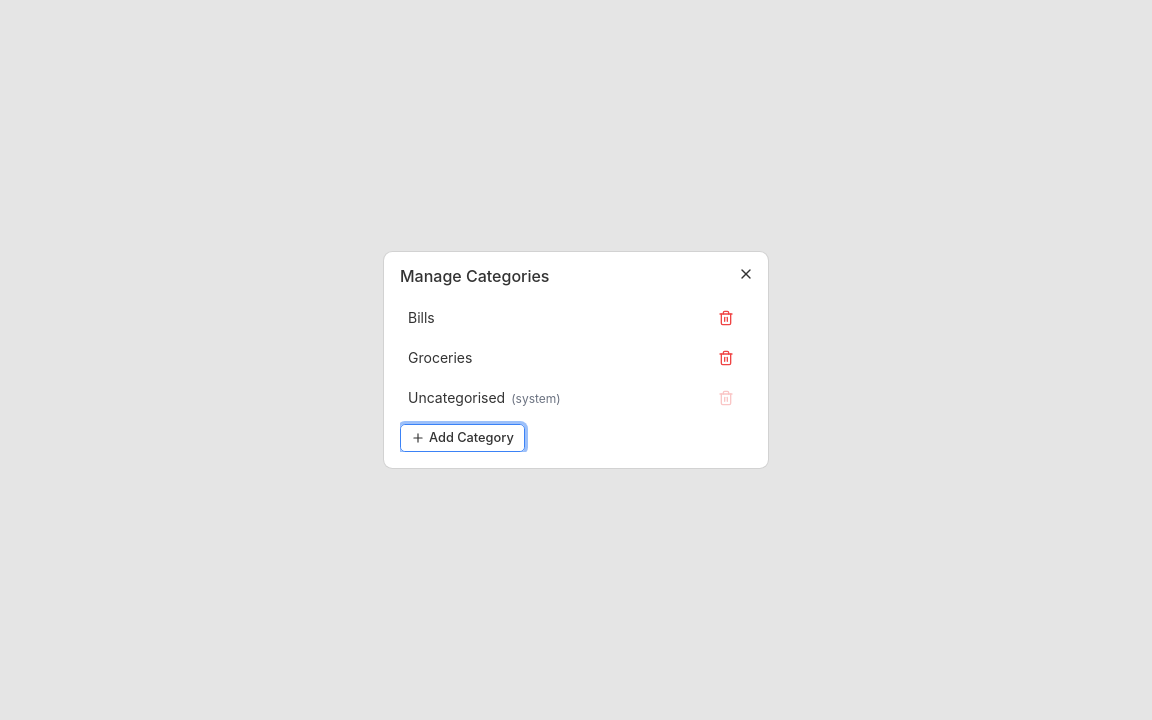
Test: CategoryManagementDialog — delete unused category › does not delete when cancel is clicked
Click the button with test id "delete-btn-1" at coordinates (726, 318), box [712, 304, 740, 332]
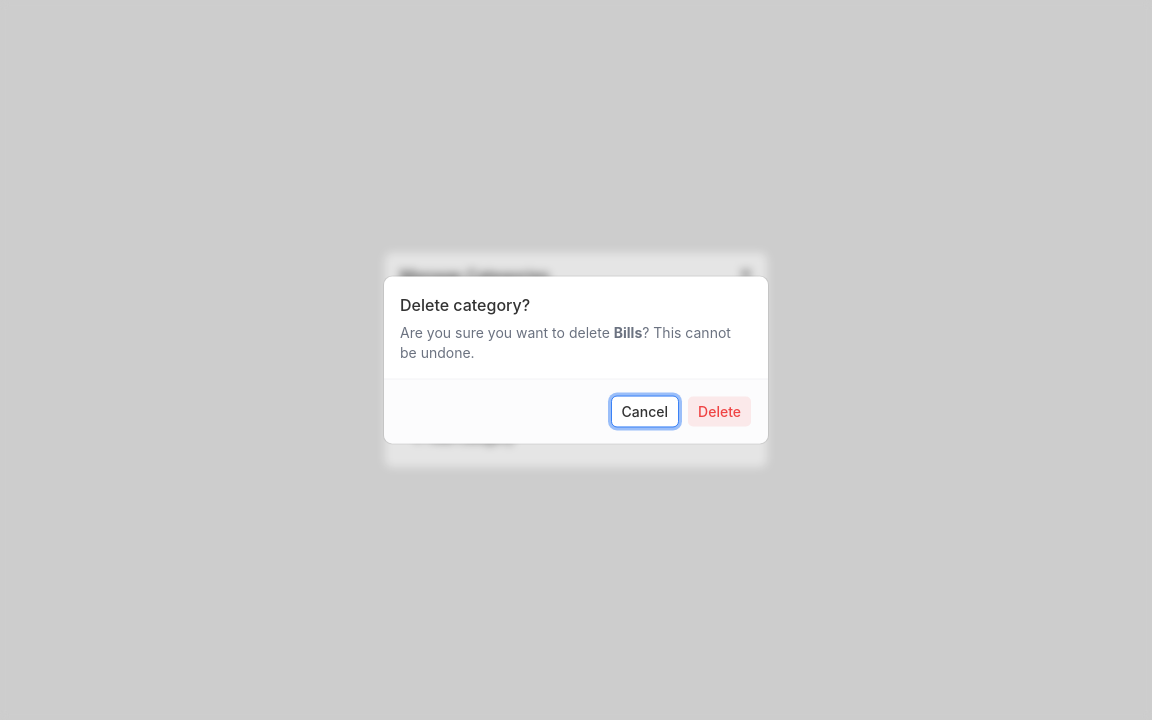
expect the button with test id "delete-cancel" is shown: met
Click the button with test id "delete-cancel" at coordinates (645, 412), box [611, 396, 679, 428]
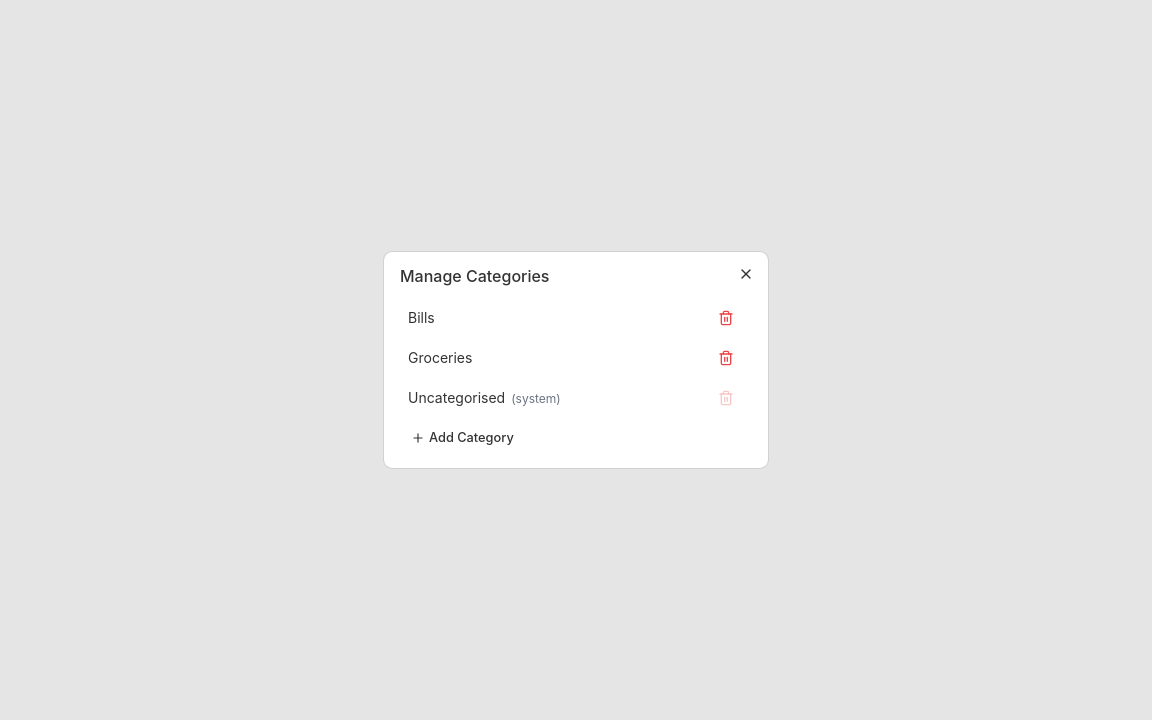
expect the button with test id "delete-confirm" is gone: met
